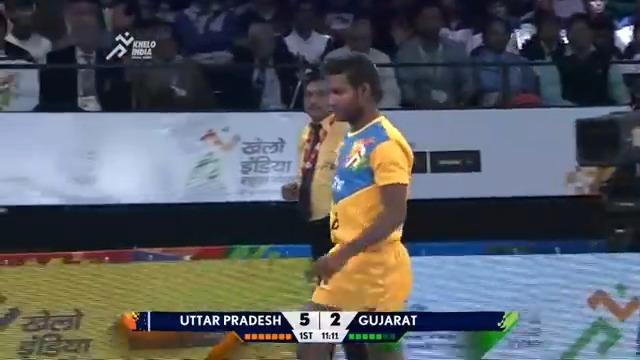Raider: (292, 49, 415, 357)
referee: (280, 71, 346, 358), (573, 71, 639, 252)
